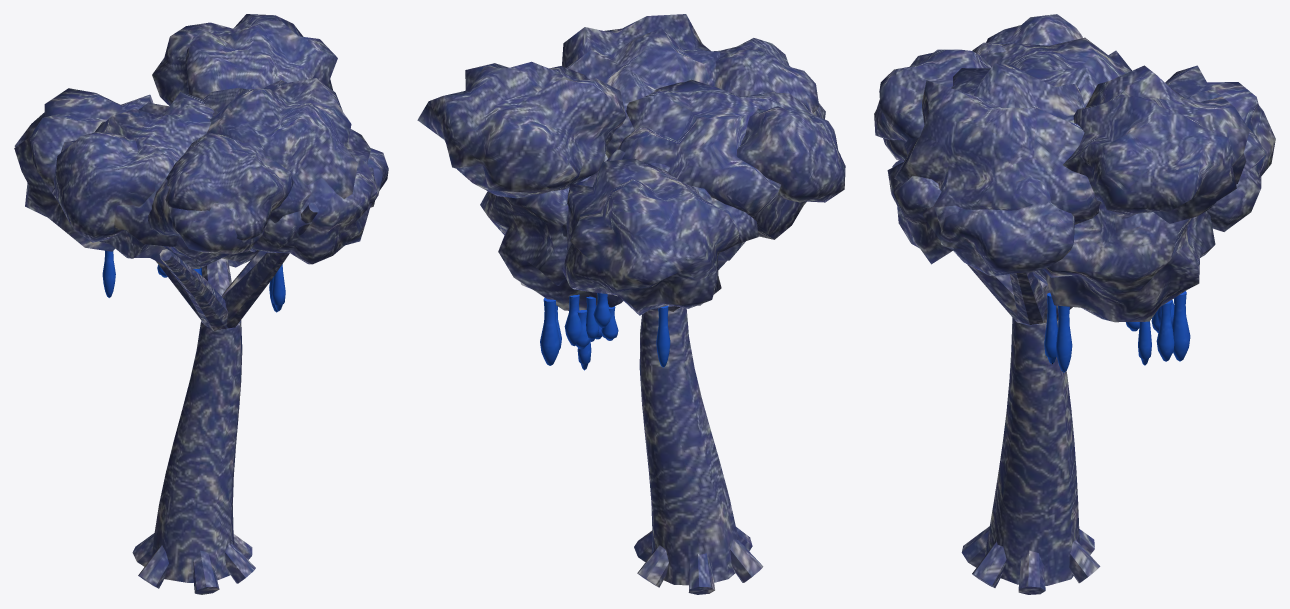
The model's file is tree.glb.
3 views of the same model, side by side, from view 1: azimuth 30°, elevation 25°; view 2: azimuth 150°, elevation 25°; view 3: azimuth 270°, elevation 25° (orthographic). The views are drawn at different scales.
Visible parts, largest first — view 1: tree; view 2: tree; view 3: tree.
Part boxes in pixels (box(x1,y1,x2,y2)): tree: box(14, 14, 388, 594); tree: box(417, 14, 845, 594); tree: box(874, 14, 1275, 594).
Size of the model in its own units: 3.81 by 5.5 by 3.73.
Materials: 1 (1 with a texture image).
